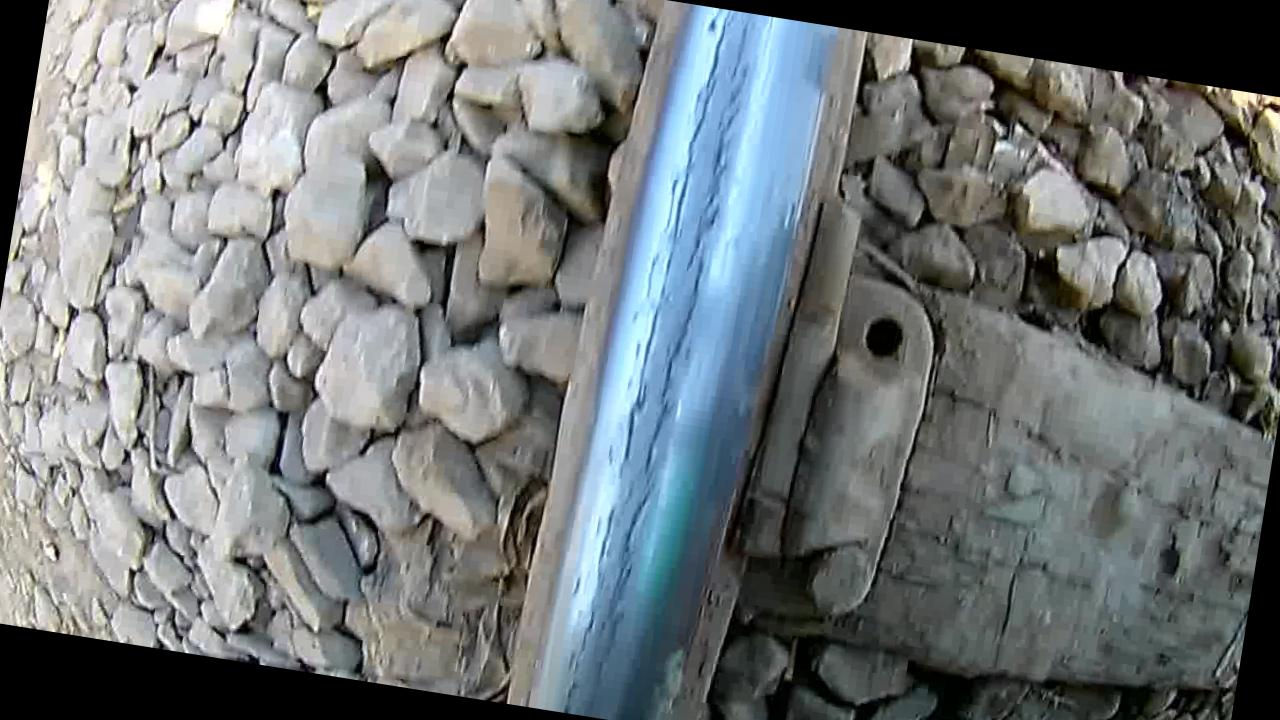normal_track: (544, 1, 776, 720)
